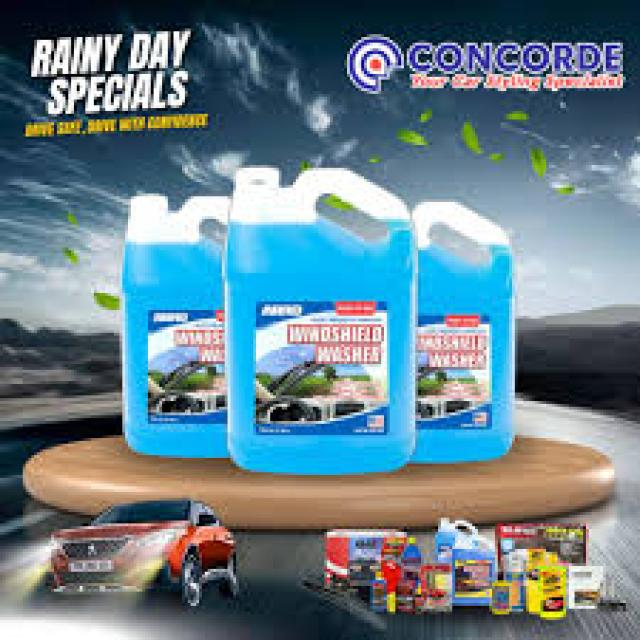winwinshield_washer: (228, 162, 414, 478)
